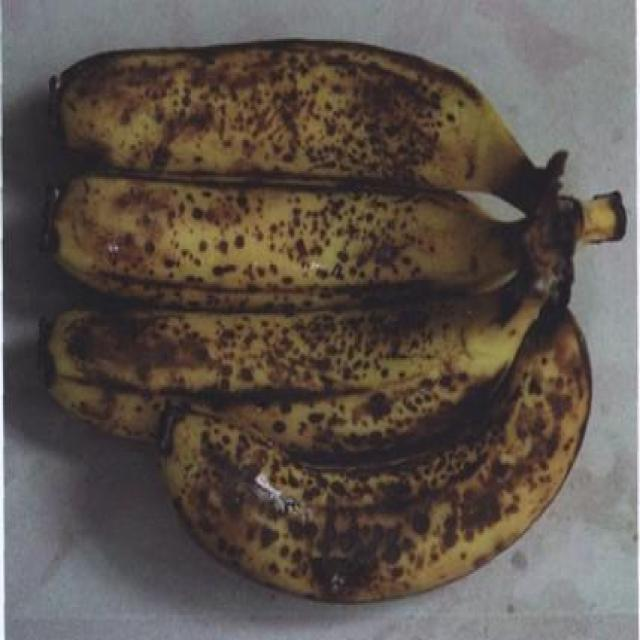Wet Waste: (28, 37, 630, 609)
